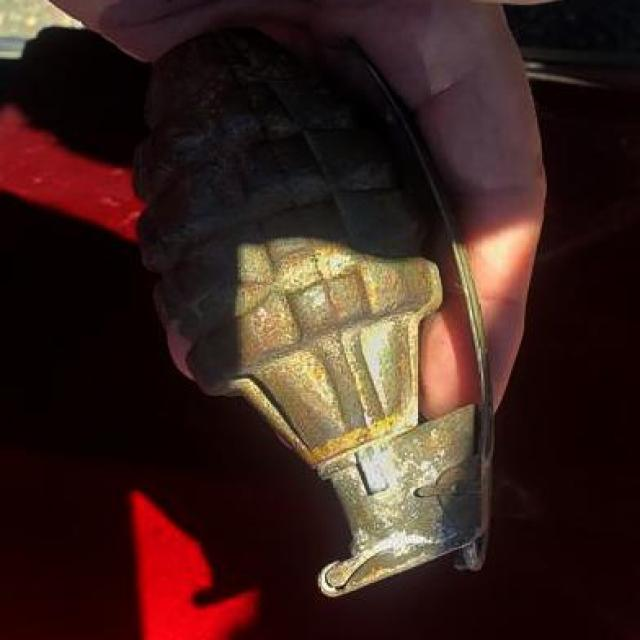grenade: (133, 25, 495, 603)
